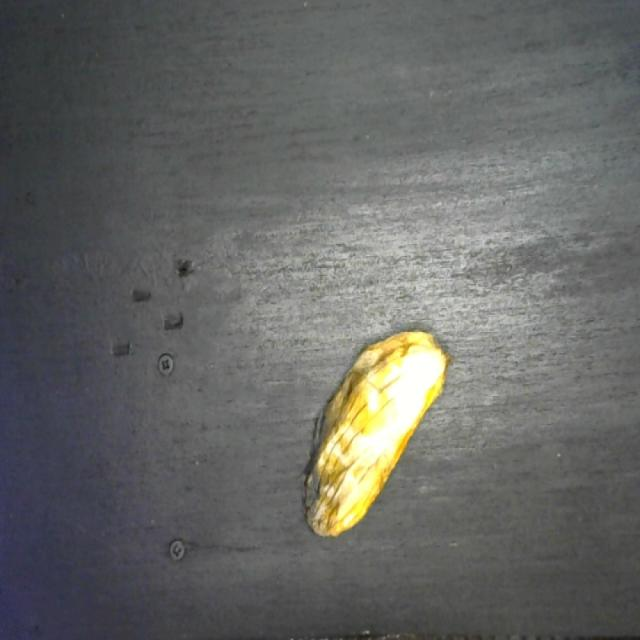biodegradable: (301, 325, 448, 543)
